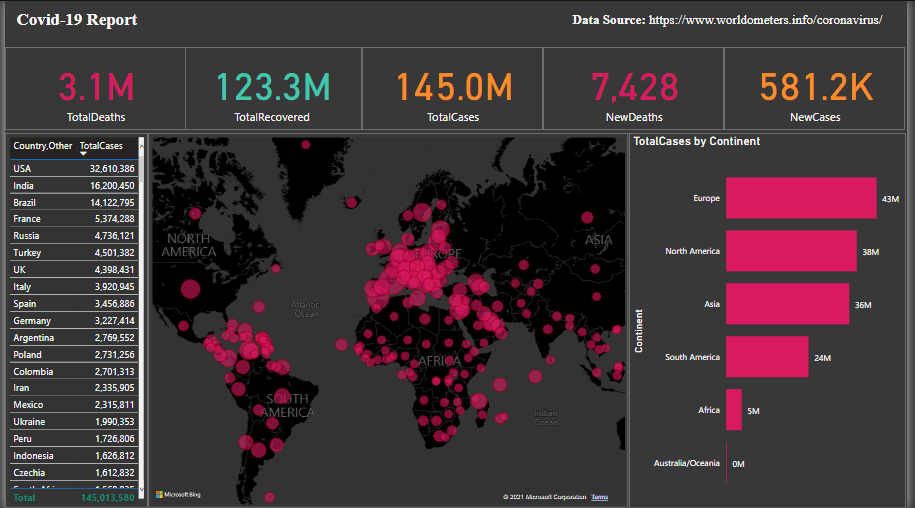

What the dashboard file says about the page in this screenshot:
{"tool":"powerbi","page":{"name":"Page 1","canvas":[1280,720],"ordinal":0},"visuals":[{"type":"map","fields":{"Category":["Table 1.Country,Other"],"Size":["Sum(Table 1.Tot Cases/1M pop)"]},"box":[203.3,188.1,682,532.5],"z":0},{"type":"card","fields":{"Values":["Sum(Table 1.TotalCases)"]},"box":[507.3,65.5,257,117.6],"z":1000},{"type":"card","fields":{"Values":["Sum(Table 1.TotalRecovered)"]},"box":[250.3,65.5,257,117.6],"z":2000},{"type":"card","fields":{"Values":["Sum(Table 1.TotalDeaths)"]},"box":[0,65.5,257,117.6],"z":3000},{"type":"card","fields":{"Values":["Sum(Table 1.NewDeaths)"]},"box":[764.3,65.5,257,117.6],"z":4000},{"type":"card","fields":{"Values":["Sum(Table 1.NewCases)"]},"box":[1021.3,65.5,257,117.6],"z":5000},{"type":"tableEx","fields":{"Values":["Table 1.Country,Other","Sum(Table 1.TotalCases)"]},"box":[0,188.1,203.3,532.5],"z":6000},{"type":"clusteredBarChart","fields":{"Category":["Table 1.Continent","Table 1.Country,Other"],"Y":["Sum(Table 1.TotalCases)"]},"box":[886.2,187.5,393.4,532.5],"z":7000},{"type":"textbox","box":[11.4,8.5,215.9,45.4],"z":8000},{"type":"textbox","box":[800.9,11.4,458.7,45.4],"z":9000}]}

Visuals, with their boxes in screenshot pixels (x1, y1, x2, y2), scaled from the page's 1280x720 canvas onto the 915x508 screenshot:
map - Table 1.Country,Other x Sum(Table 1.Tot Cases/1M pop): <box>145,133,633,507</box>
card - Sum(Table 1.TotalCases): <box>363,46,546,129</box>
card - Sum(Table 1.TotalRecovered): <box>179,46,363,129</box>
card - Sum(Table 1.TotalDeaths): <box>0,46,184,129</box>
card - Sum(Table 1.NewDeaths): <box>546,46,730,129</box>
card - Sum(Table 1.NewCases): <box>730,46,914,129</box>
tableEx - Table 1.Country,Other x Sum(Table 1.TotalCases): <box>0,133,145,507</box>
clusteredBarChart - Table 1.Continent x Table 1.Country,Other: <box>633,132,914,507</box>
textbox: <box>8,6,162,38</box>
textbox: <box>573,8,900,40</box>
